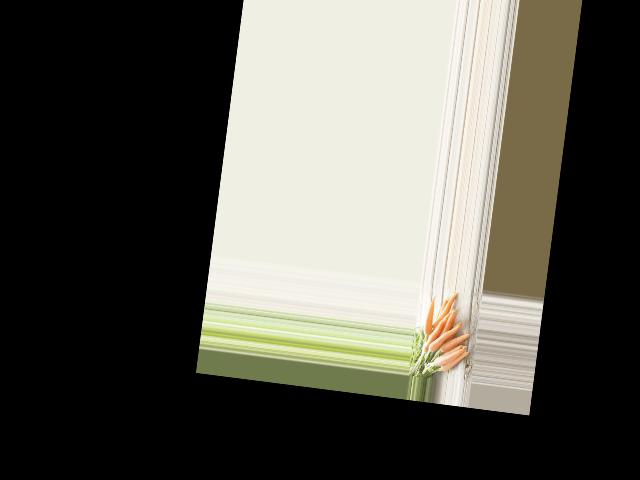carrot: (420, 296, 437, 335)
